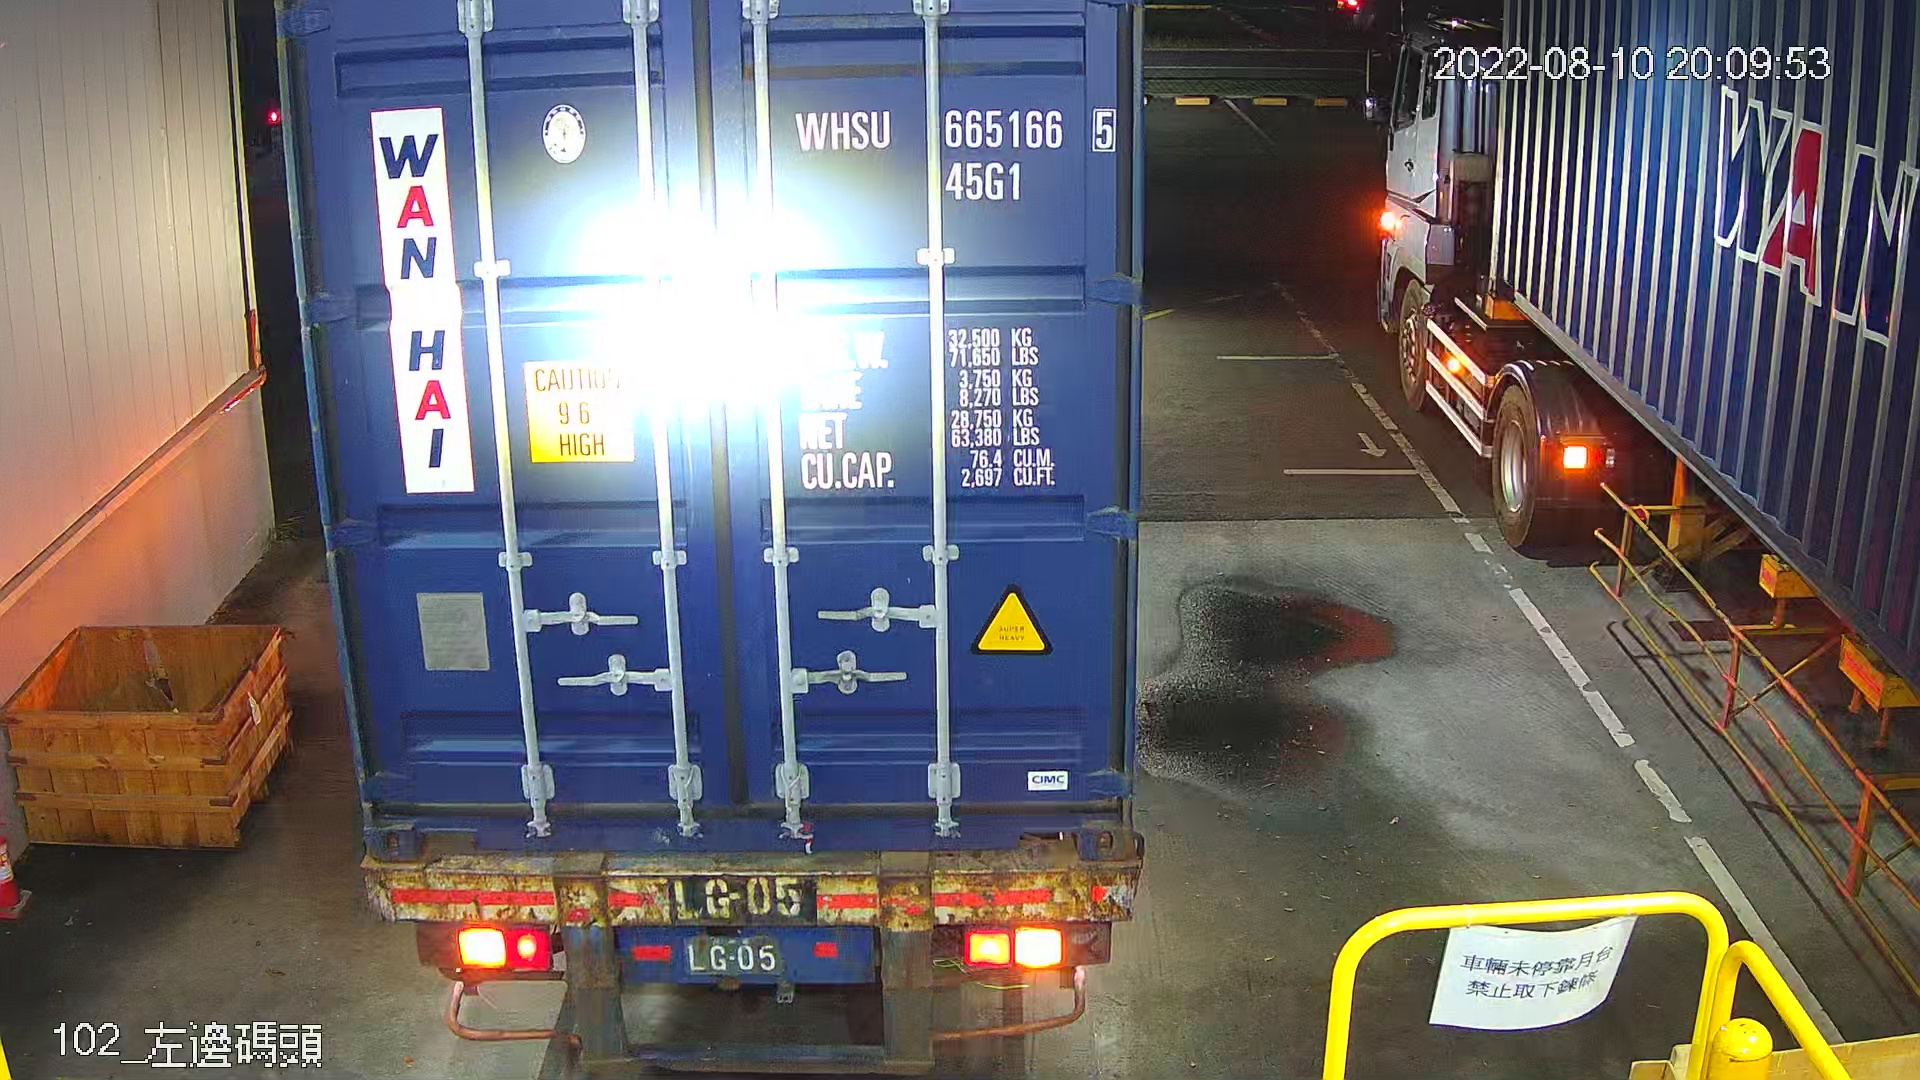container: (785, 98, 1127, 211)
